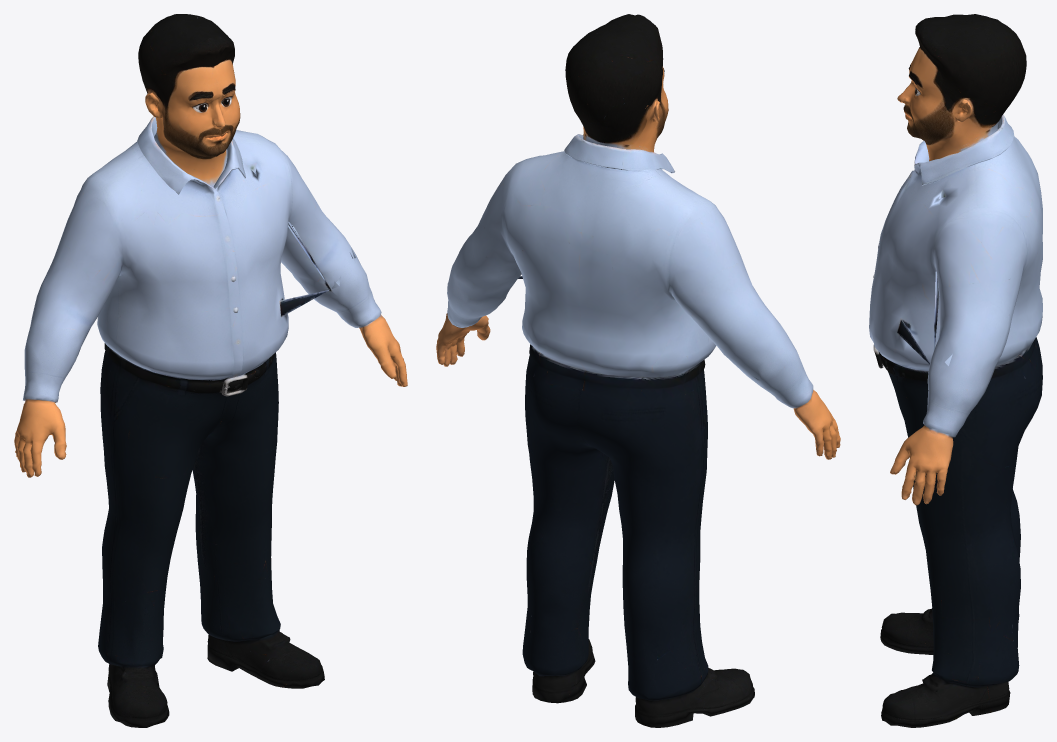
Rendered from AbdullahEkinci_01a05c85.glb.
The picture shows the model from 3 angles, left to right: view 1: azimuth 30°, elevation 25°; view 2: azimuth 150°, elevation 25°; view 3: azimuth 270°, elevation 25°; orthographic projection. The views are drawn at different scales.
Visible parts, largest first — view 1: mesh_node; view 2: mesh_node; view 3: mesh_node.
Boxes of the visible parts, <box> form: mesh_node: <box>14,14,407,727</box>; mesh_node: <box>436,14,840,727</box>; mesh_node: <box>869,14,1042,727</box>.
Size of the model in its own units: 0.6113 by 1 by 0.2398.
Materials: 1 (1 with a texture image).
